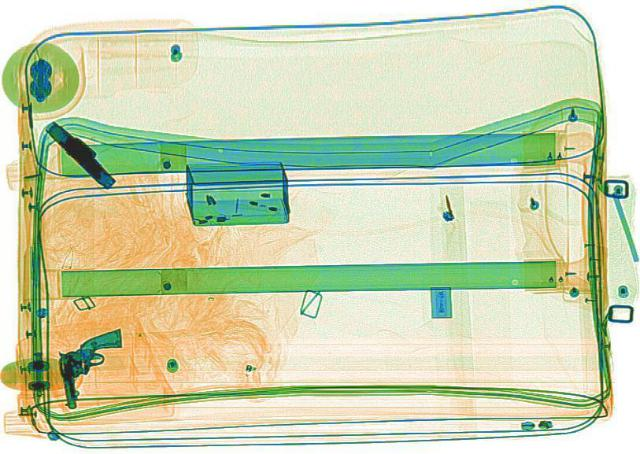Gun: (46, 320, 136, 409), (41, 112, 130, 199)
